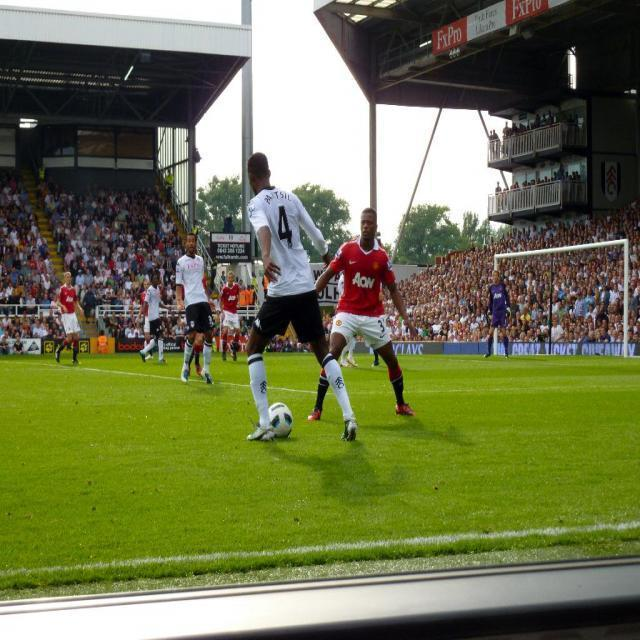ball: (268, 401, 294, 438)
